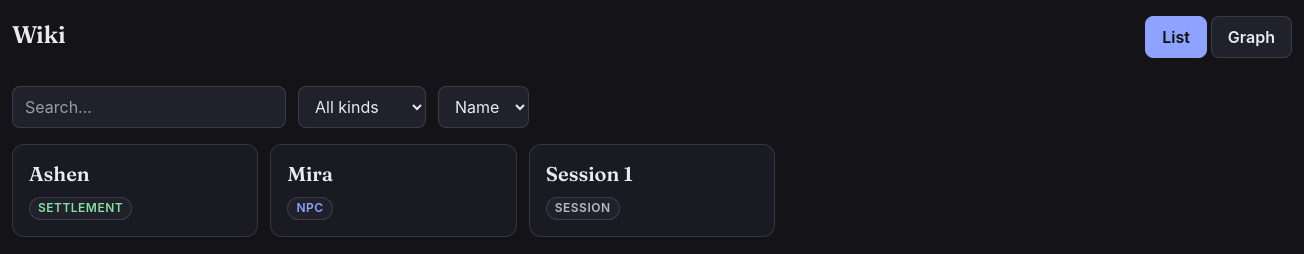
WikiPage list › filters by search query
Expected: the text "Mira" is shown, [287,161,333,186]
Type "ashen" into the field named "Search wiki".
click(149, 107); type("ashen")  # box [12,86,286,128]
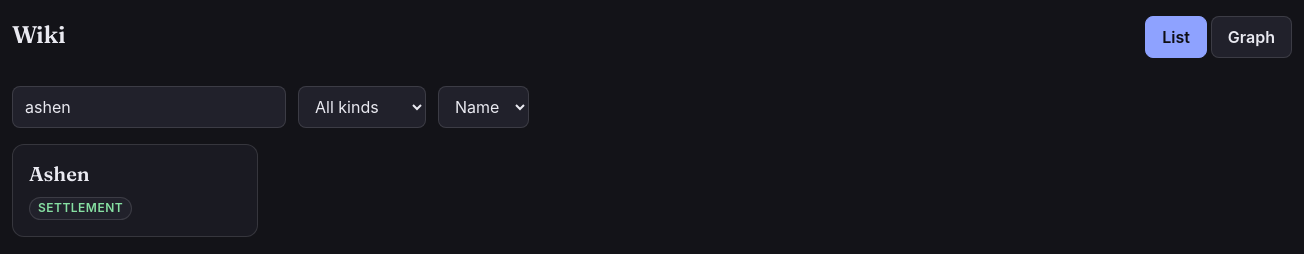
Expected: the text "Ashen" is shown, [29,161,90,186]
Result: the link "Mira" is gone
